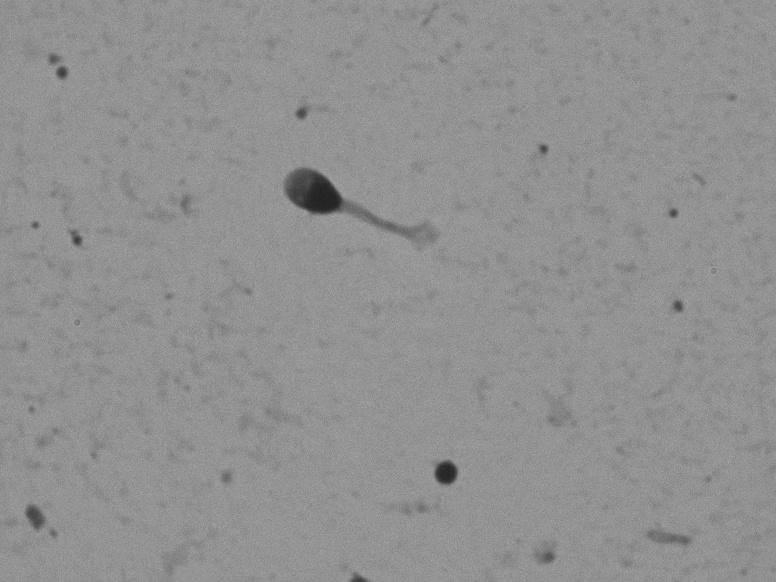Abnormal: (257, 136, 483, 269)
